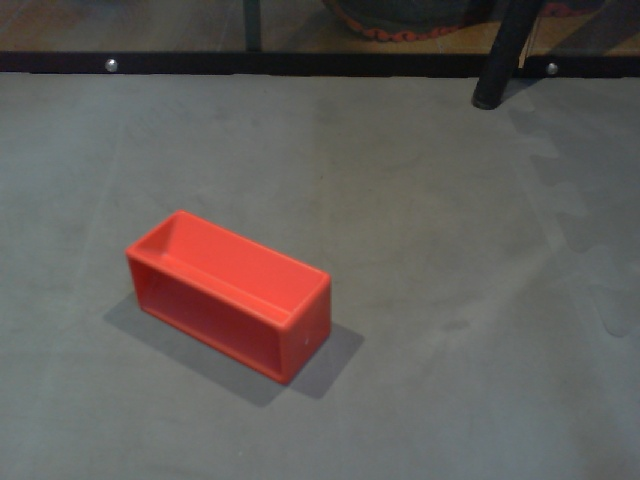RedSample: (123, 208, 334, 388)
